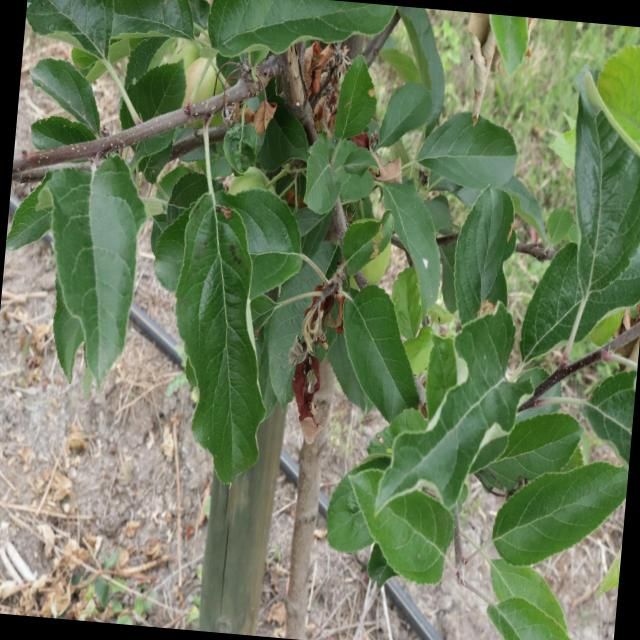-FireBlight-: (281, 232, 345, 429), (279, 40, 372, 138), (452, 11, 500, 117), (361, 127, 404, 191), (233, 90, 278, 144)
